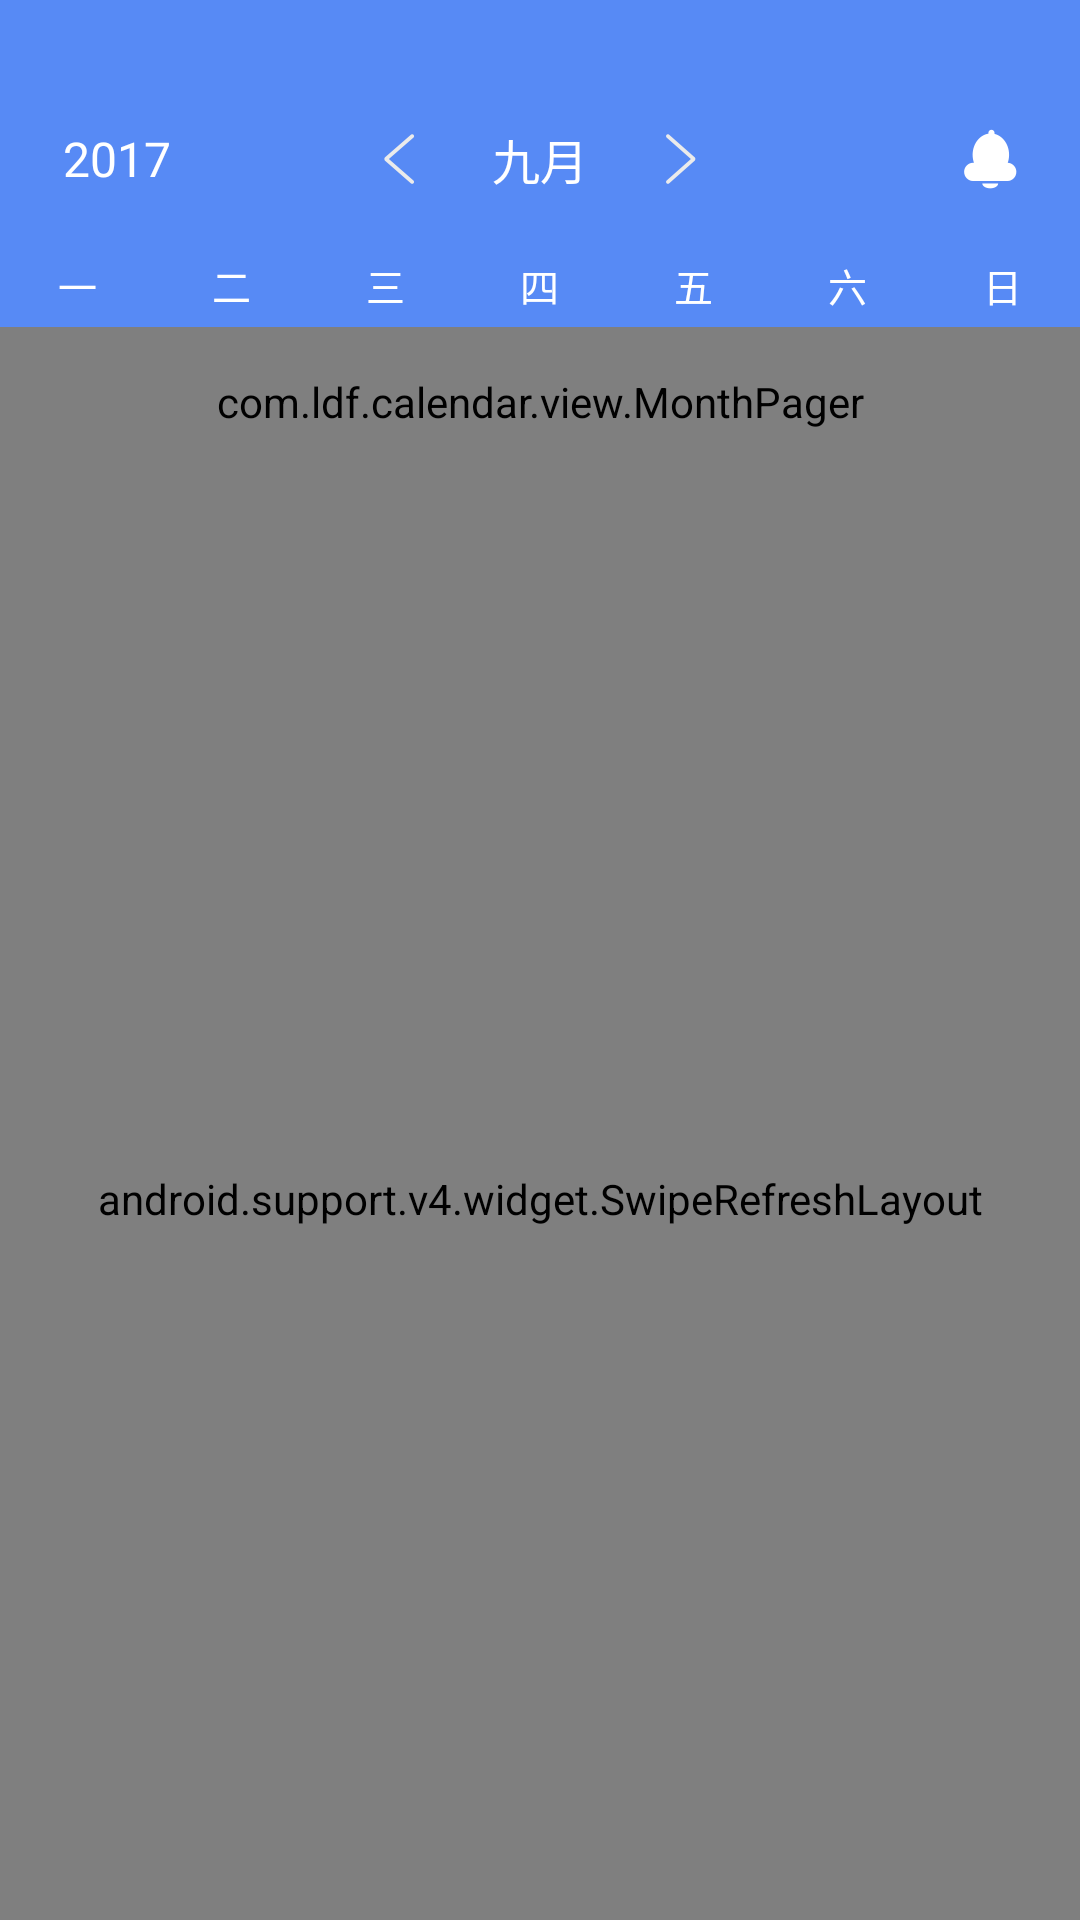

Icons on this 1080 × 1920 Android screen, each with the point to tap as point (x, y):
left: point (399, 159)
right: point (681, 159)
